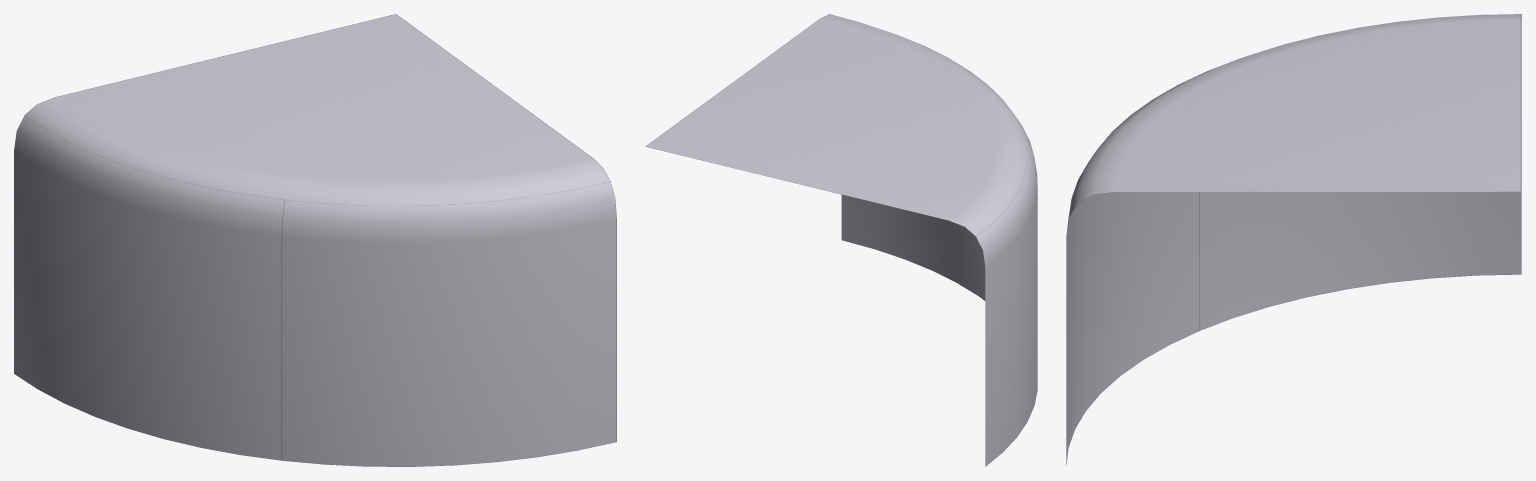
Rendered from Plate_Form_03_LP.FBX.
The picture shows the model from 3 angles, left to right: view 1: azimuth 30°, elevation 25°; view 2: azimuth 150°, elevation 25°; view 3: azimuth 270°, elevation 25°; orthographic projection. The views are drawn at different scales.
Visible parts, largest first — view 1: Plate_Form_03_LP; view 2: Plate_Form_03_LP; view 3: Plate_Form_03_LP.
Boxes of the visible parts, box(x1,y1,x2,y2) form: Plate_Form_03_LP: box(14, 14, 616, 466); Plate_Form_03_LP: box(645, 14, 1037, 466); Plate_Form_03_LP: box(1066, 14, 1521, 465).
Bounding box in the file's own units: 6 × 4 × 6.
Materials: 1 (1 with a texture image).
